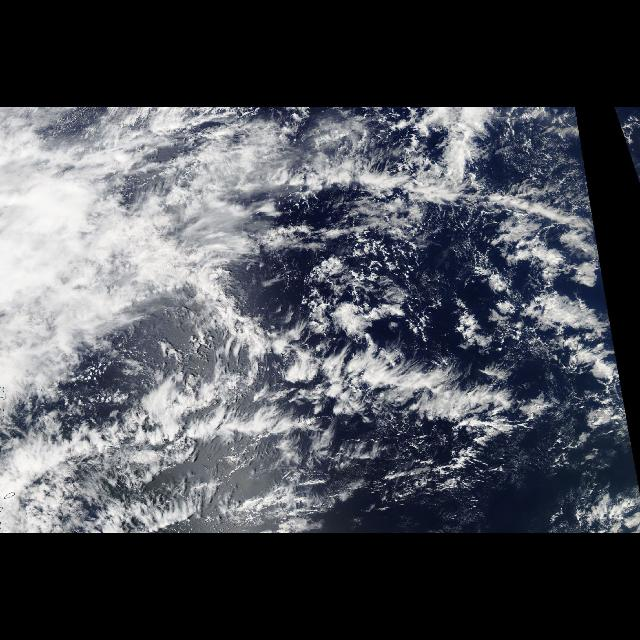Fish: (218, 311, 542, 434), (260, 158, 596, 234)
